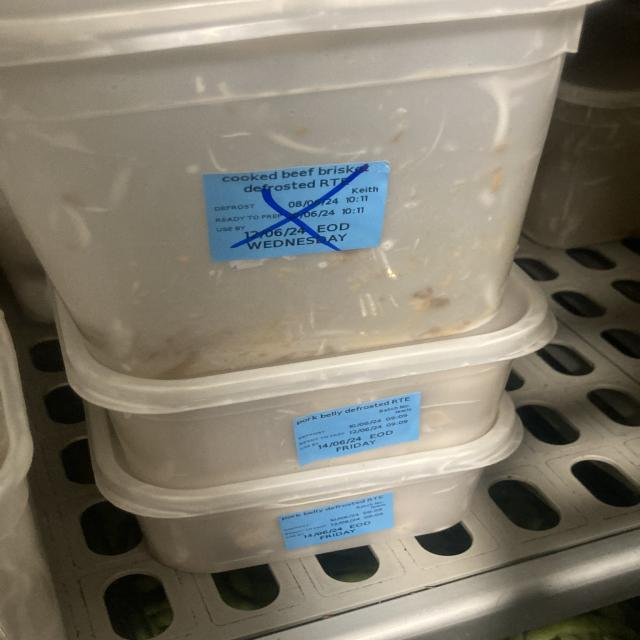product-labels: (203, 159, 393, 262), (290, 392, 429, 467), (278, 492, 398, 551)
